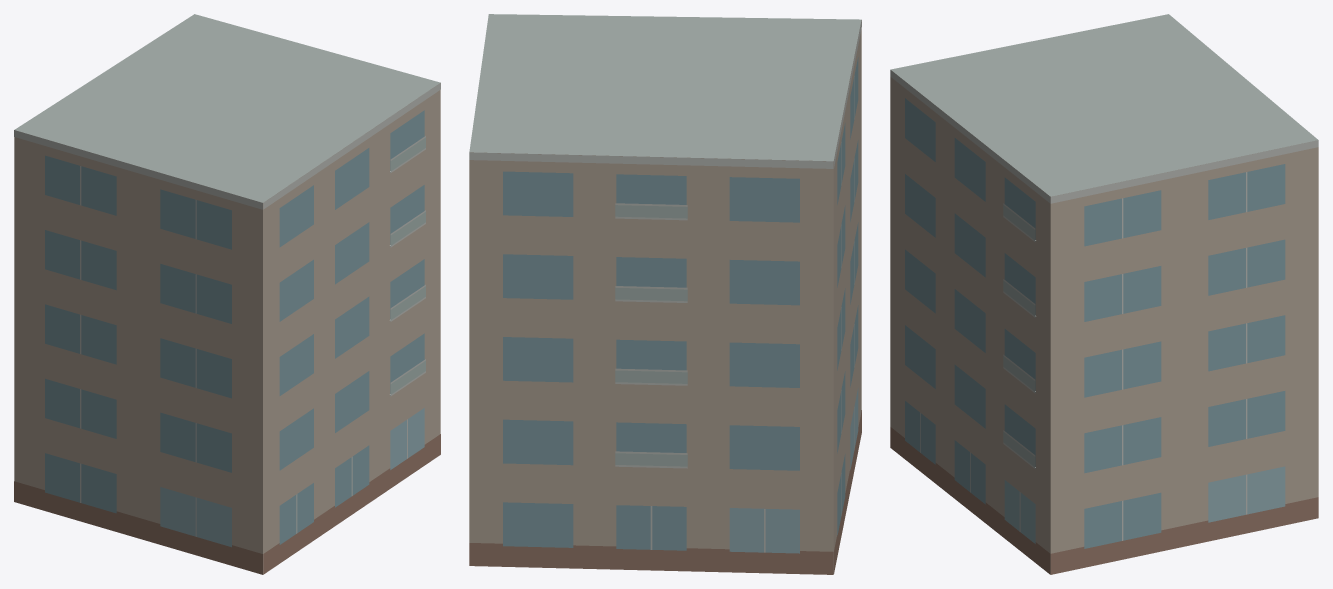
File: survey-upis-32841501.glb
3 views of the same model, side by side, from view 1: azimuth 30°, elevation 25°; view 2: azimuth 150°, elevation 25°; view 3: azimuth 270°, elevation 25° (orthographic). The views are drawn at different scales.
Visible parts, largest first — view 1: survey-upis-32841501.tmp; view 2: survey-upis-32841501.tmp; view 3: survey-upis-32841501.tmp.
Part boxes in pixels (x1,y1,x2,y2): survey-upis-32841501.tmp: [14, 14, 440, 574]; survey-upis-32841501.tmp: [469, 14, 861, 574]; survey-upis-32841501.tmp: [890, 14, 1318, 574].
Bounding box in the file's own units: 13.59 × 13.1 × 13.46.
